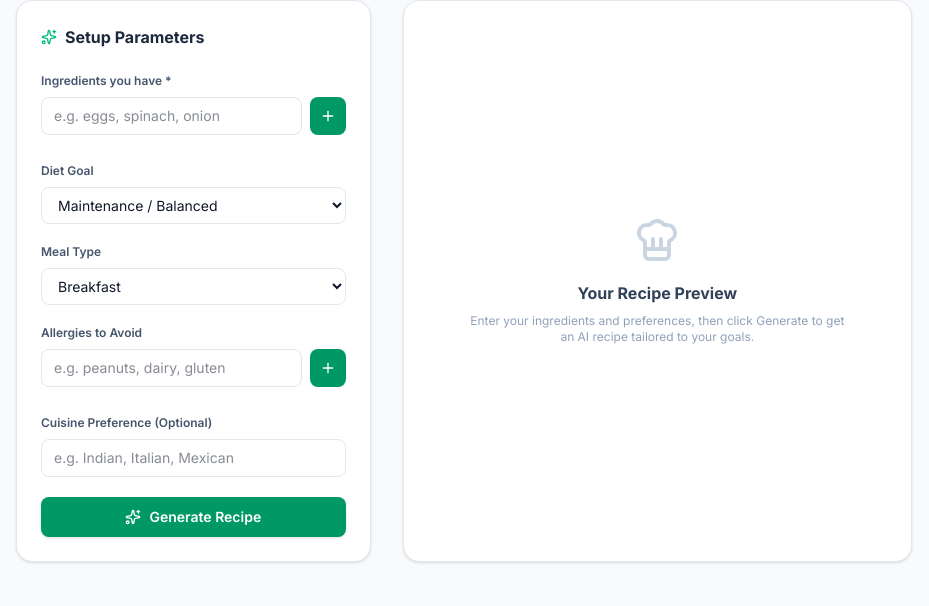
Test case: RecipeGenerator Form Component › allows adding ingredients to the list
This screenshot has width=929, height=606.
Type "Avocado" into the field with placeholder "e.g. eggs, spinach, onion" at (171, 116), box [41, 97, 302, 135]
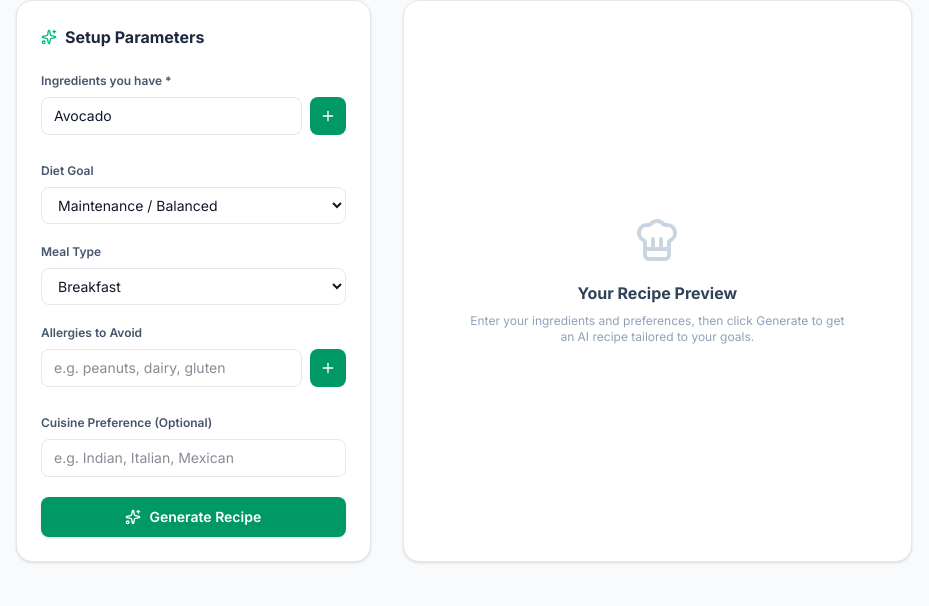
Click the button without text below "Ingredients you have *" at (328, 116), box [310, 97, 346, 135]
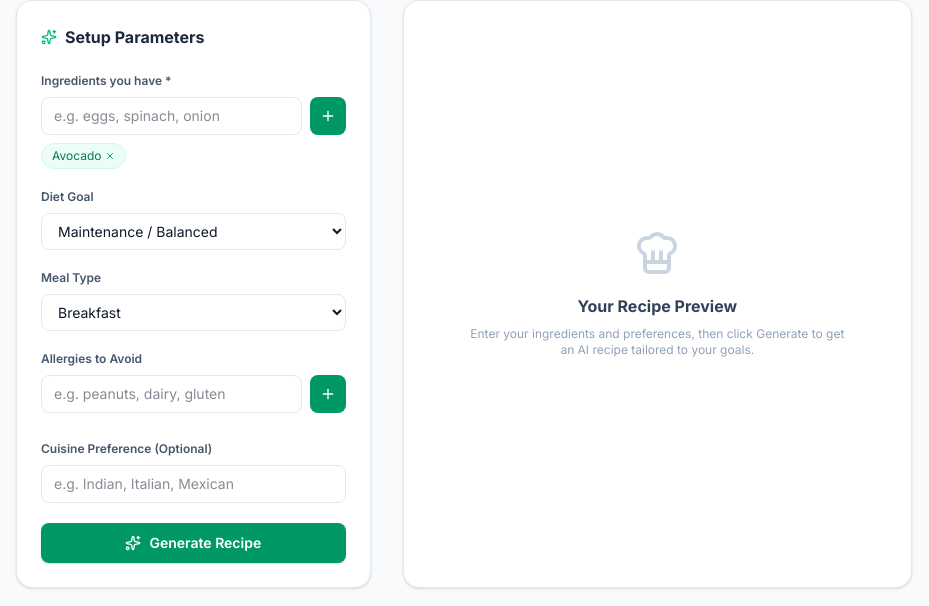
Now the text "Avocado" is shown, box [41, 143, 126, 169]
